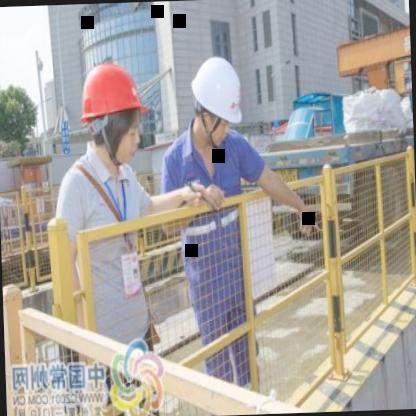helmet: (70, 48, 152, 173), (184, 49, 246, 148)
